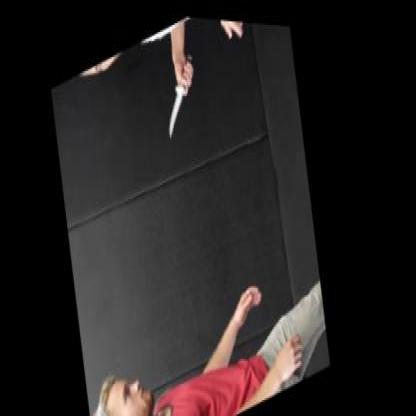knife: (152, 40, 210, 143)
